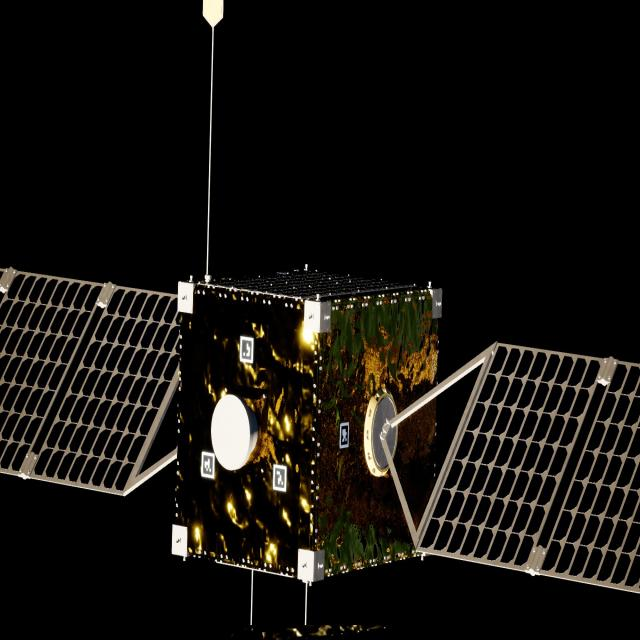medium_debris: (0, 266, 640, 593)
